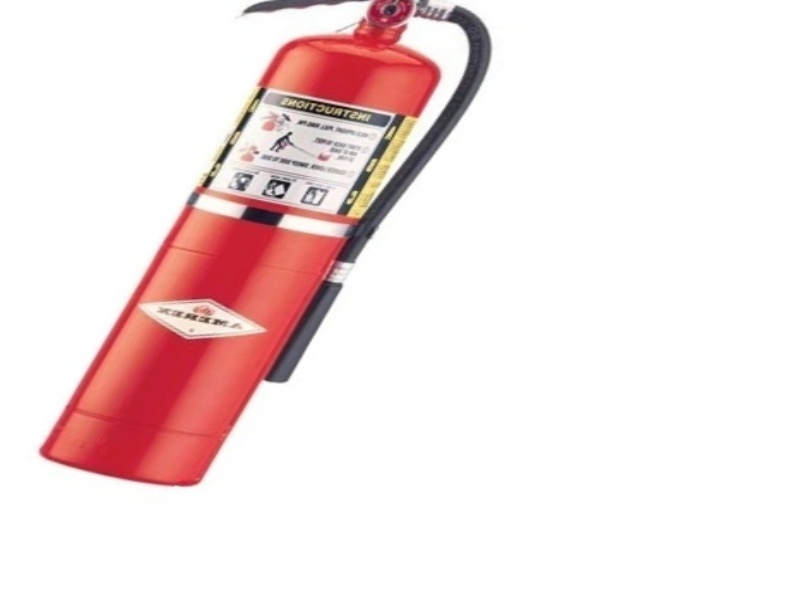fire_extinguisher: (21, 6, 495, 492)
